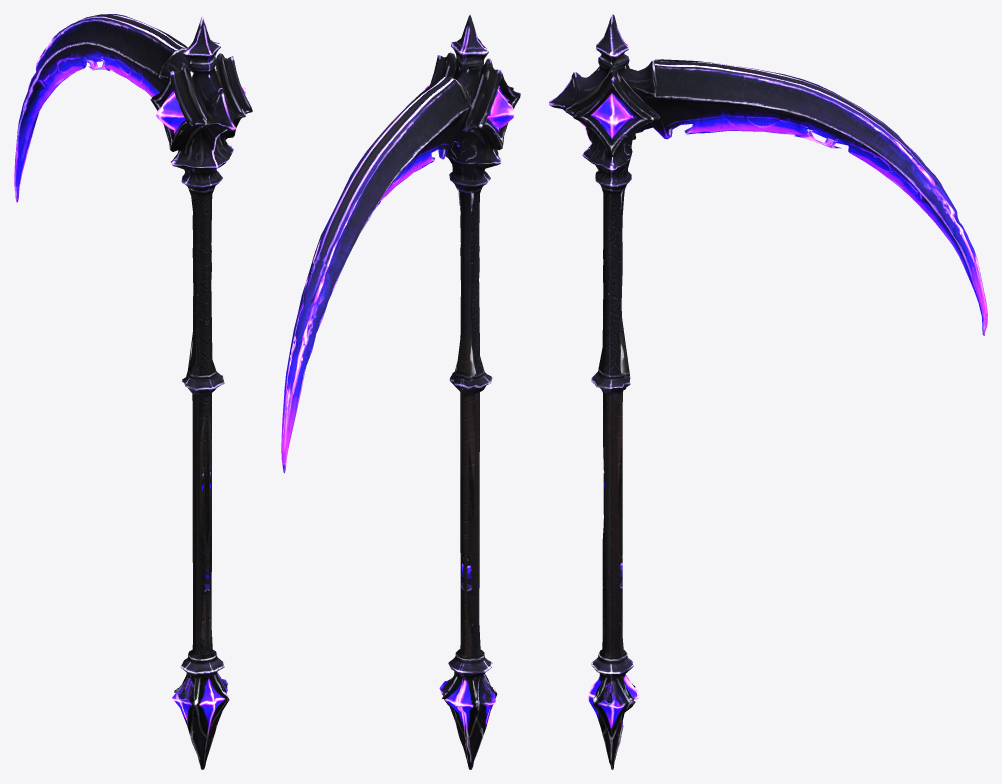
File: Scythe.fbx
3 views of the same model, side by side, from view 1: azimuth 30°, elevation 25°; view 2: azimuth 150°, elevation 25°; view 3: azimuth 270°, elevation 25° (orthographic).
Visible parts, largest first — view 1: Scythe; view 2: Scythe; view 3: Scythe.
Part boxes in pixels (x1,y1,x2,y2): Scythe: (14, 14, 252, 769); Scythe: (281, 14, 520, 769); Scythe: (549, 14, 987, 769).
Size of the model in its own units: 0.2706 by 2.16 by 1.14.
